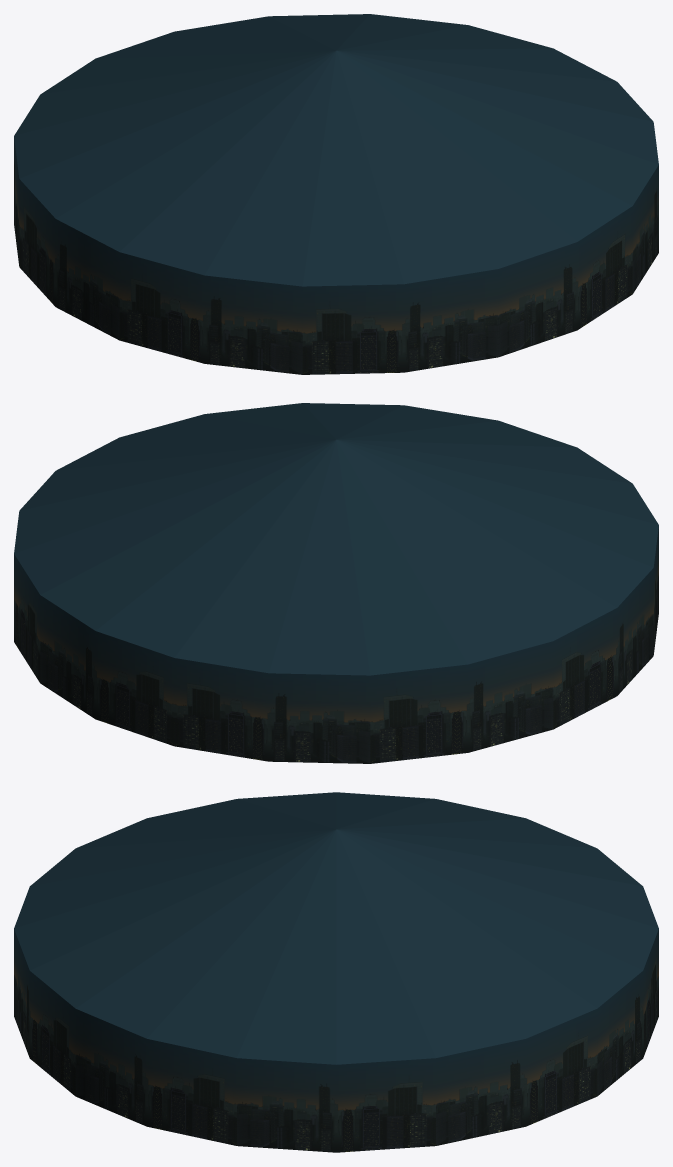
File: UnityChain_test.FBX
3 views of the same model, one above another, from view 1: azimuth 30°, elevation 25°; view 2: azimuth 150°, elevation 25°; view 3: azimuth 270°, elevation 25° (orthographic).
Visible parts, largest first — view 1: bg; view 2: bg; view 3: bg.
Part boxes in pixels (<box>): bg: <box>14,14,658,374</box>; bg: <box>14,403,658,763</box>; bg: <box>14,792,658,1152</box>.
Size of the model in its own units: 122 by 45.94 by 122.
